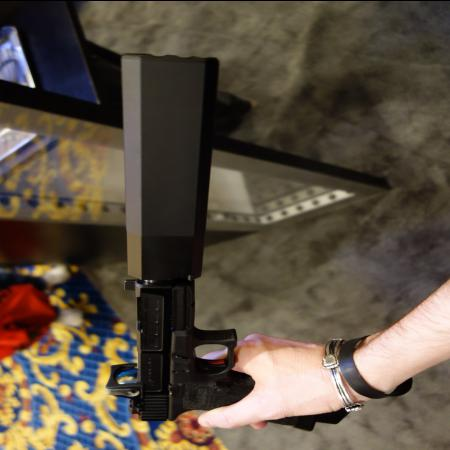Pistol: (106, 279, 356, 431)
